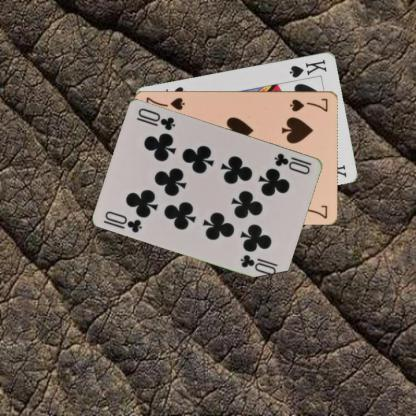10c: (101, 208, 144, 234), (272, 150, 312, 176)
7s: (287, 95, 329, 113)
Ks: (287, 57, 328, 78)
